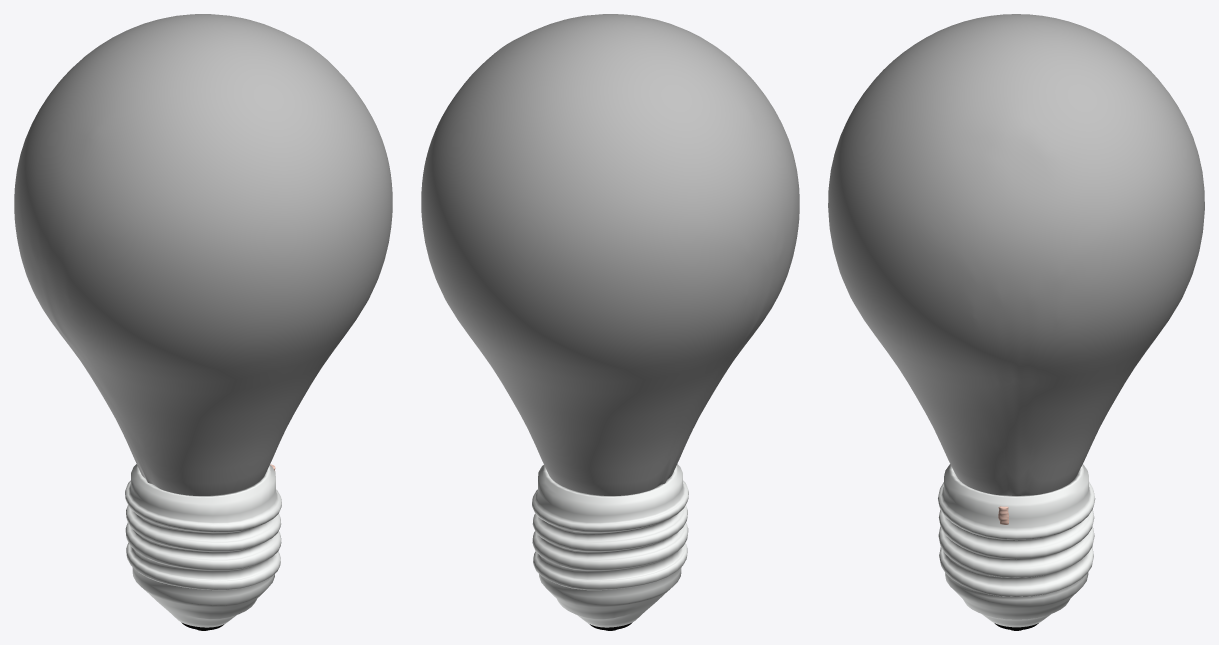
3 views of the same model, side by side, from view 1: azimuth 30°, elevation 25°; view 2: azimuth 150°, elevation 25°; view 3: azimuth 270°, elevation 25° (orthographic).
Visible parts, largest first — view 1: Bulb_low, Rosca_low; view 2: Bulb_low, Rosca_low; view 3: Bulb_low, Rosca_low.
Part boxes in pixels (bbox=[...]): Bulb_low: bbox=[14, 14, 392, 495]; Rosca_low: bbox=[125, 464, 281, 627]; Bulb_low: bbox=[421, 14, 799, 495]; Rosca_low: bbox=[532, 464, 688, 627]; Bulb_low: bbox=[828, 14, 1204, 495]; Rosca_low: bbox=[938, 464, 1095, 627].
Size of the model in its own units: 1.15 by 2 by 1.15.
6 materials, 6 textured.
